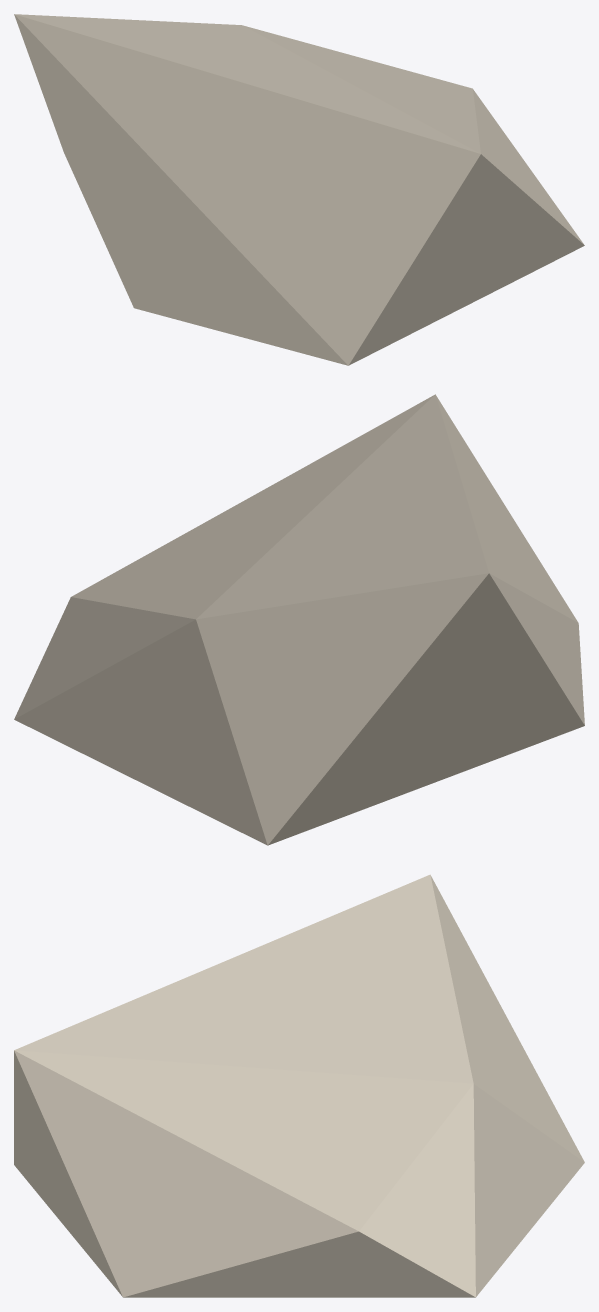
Rendered from cailloux_2.fbx.
3 renders of one model, top to bottom at view 1: azimuth 30°, elevation 25°; view 2: azimuth 150°, elevation 25°; view 3: azimuth 270°, elevation 25°, orthographic. The views are drawn at different scales.
Parts seen in each view (by area): view 1: cailloux_2; view 2: cailloux_2; view 3: cailloux_2.
Part boxes in pixels (x1,y1,x2,y2): cailloux_2: (14,14,584,365); cailloux_2: (14,394,584,845); cailloux_2: (14,874,584,1297).
Size of the model in its own units: 75.52 by 39.19 by 88.5.
